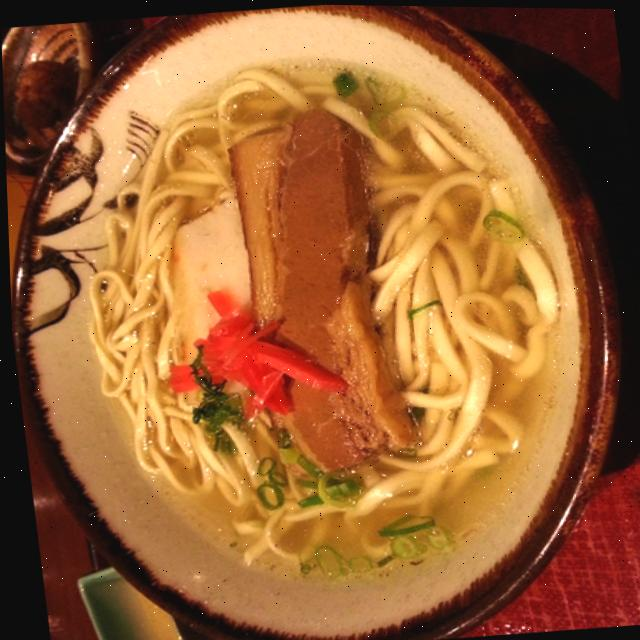熟制海鲜: (0, 4, 269, 114)
